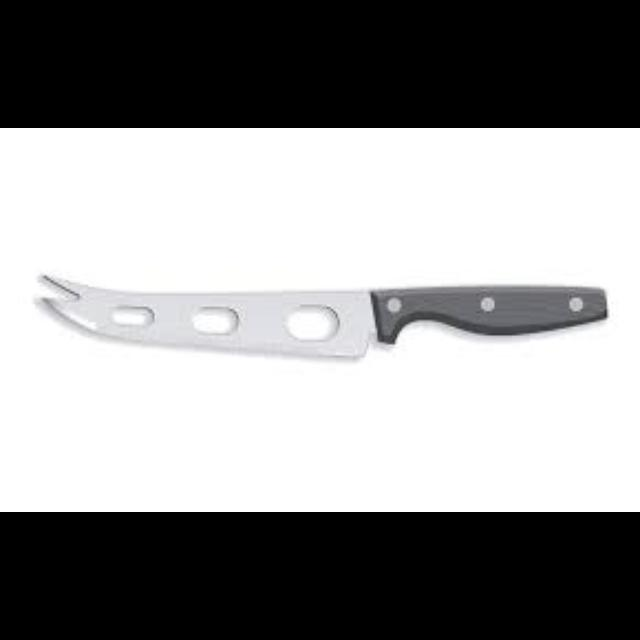Knife: (34, 271, 606, 357)
